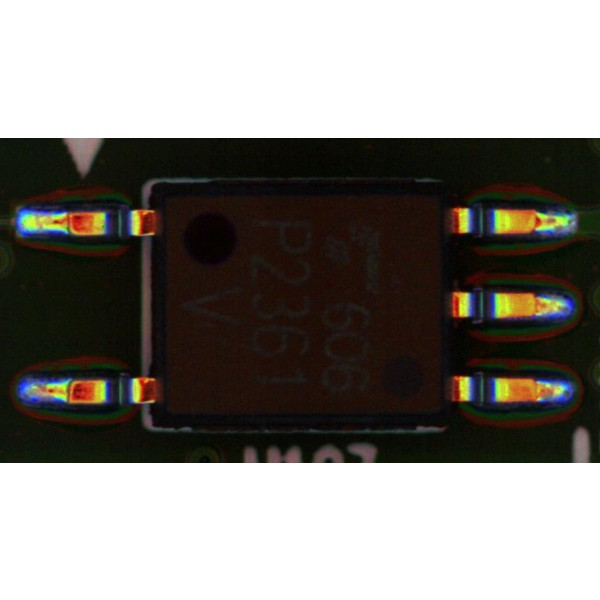Bad_podu: (52, 214, 82, 232), (47, 384, 83, 397), (525, 385, 553, 400), (524, 214, 556, 227), (524, 299, 550, 312)
